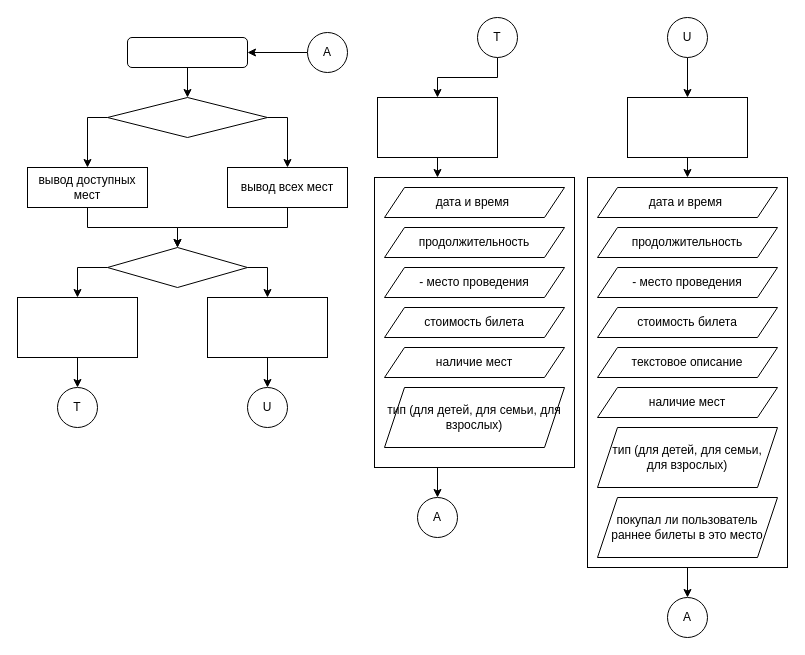
Some shapes in this 805 by 655 pixel diagram are drawn without their labels. Here are the shapes that lost their labels. From the top down, the centre of each, then its label:
At point (187, 52): "начало".
At point (187, 117): "вывод с фильтром".
At point (437, 127): "предлагаем фильтры".
At point (687, 127): "вывод информации".
At point (177, 267): "ждём действий".
At point (77, 327): "пользователь выбрал фильтры".
At point (267, 327): "пользователь выбрал место".
